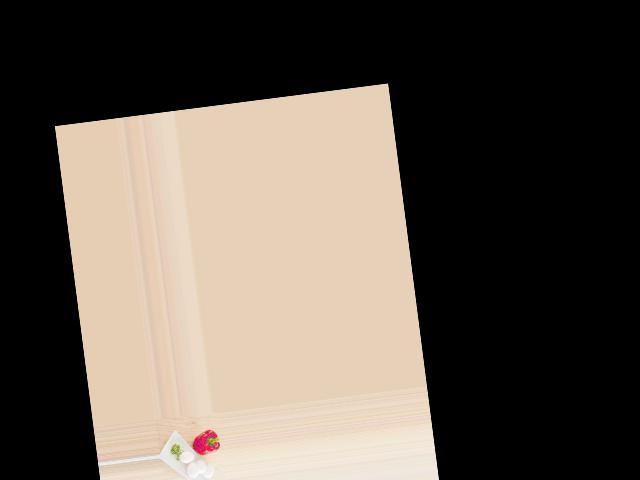bell_pepper: (191, 426, 221, 460)
